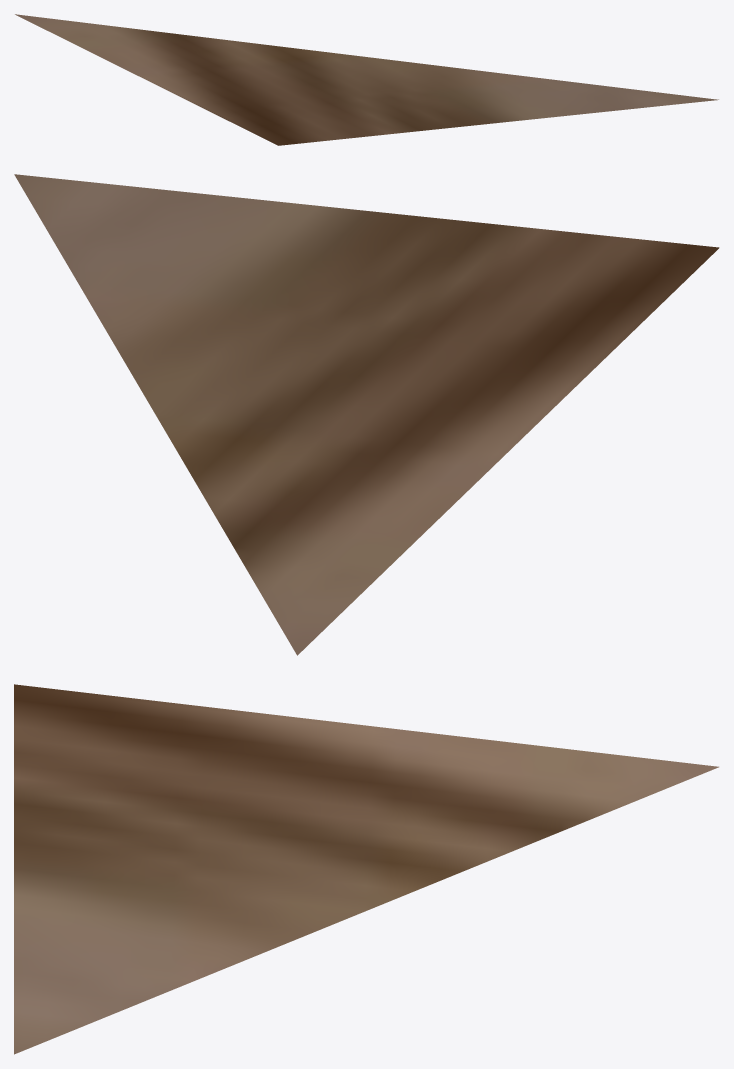
3 views of the same model, one above another, from view 1: azimuth 30°, elevation 25°; view 2: azimuth 150°, elevation 25°; view 3: azimuth 270°, elevation 25° (orthographic). The views are drawn at different scales.
Size of the model in its own units: 0.1132 by 0.0151 by 0.1173.
1 material, 1 textured.
